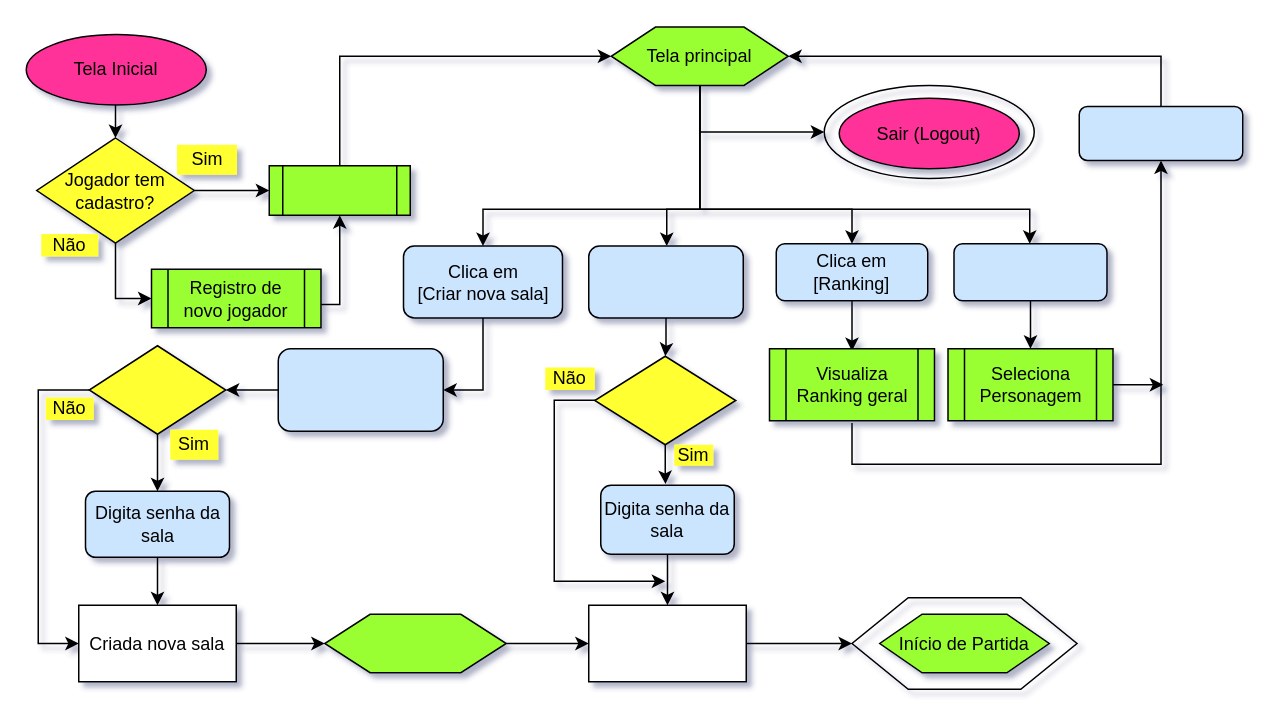
The diagram is 1278 pixels wide and 725 high, and some of its shapes have lost their labels. The box of each missing label's shape, as (x1, y1, x2, y2) in pixels:
Clica em [Perfil]: (952, 242, 1107, 301)
Clica em [Salas]: (1078, 105, 1243, 160)
Clica em sala existente: (587, 244, 743, 318)
Cria sala privada?: (88, 344, 226, 434)
Escolhe tema: (277, 347, 443, 431)
Login: (268, 164, 410, 215)
Oponente entra: (587, 604, 746, 682)
Sala privada?: (593, 355, 736, 445)
Tela de espera: (323, 613, 506, 673)
